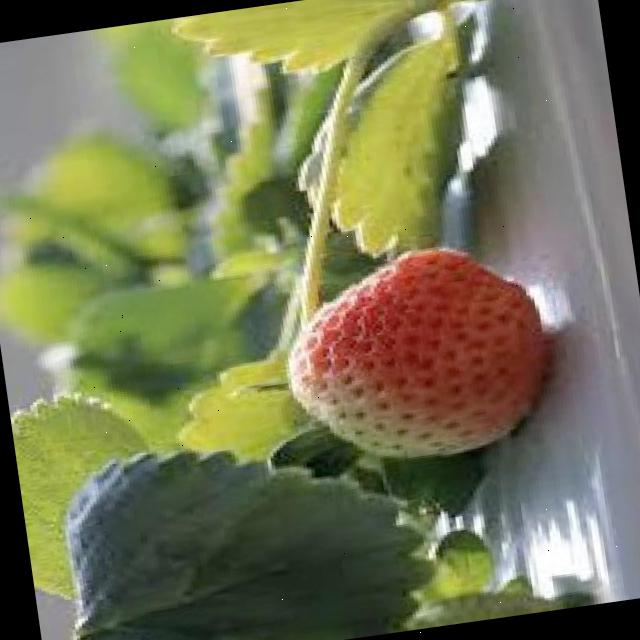strawberry: (269, 230, 559, 476)
